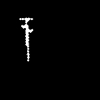double_crochet: (20, 18, 32, 60)
